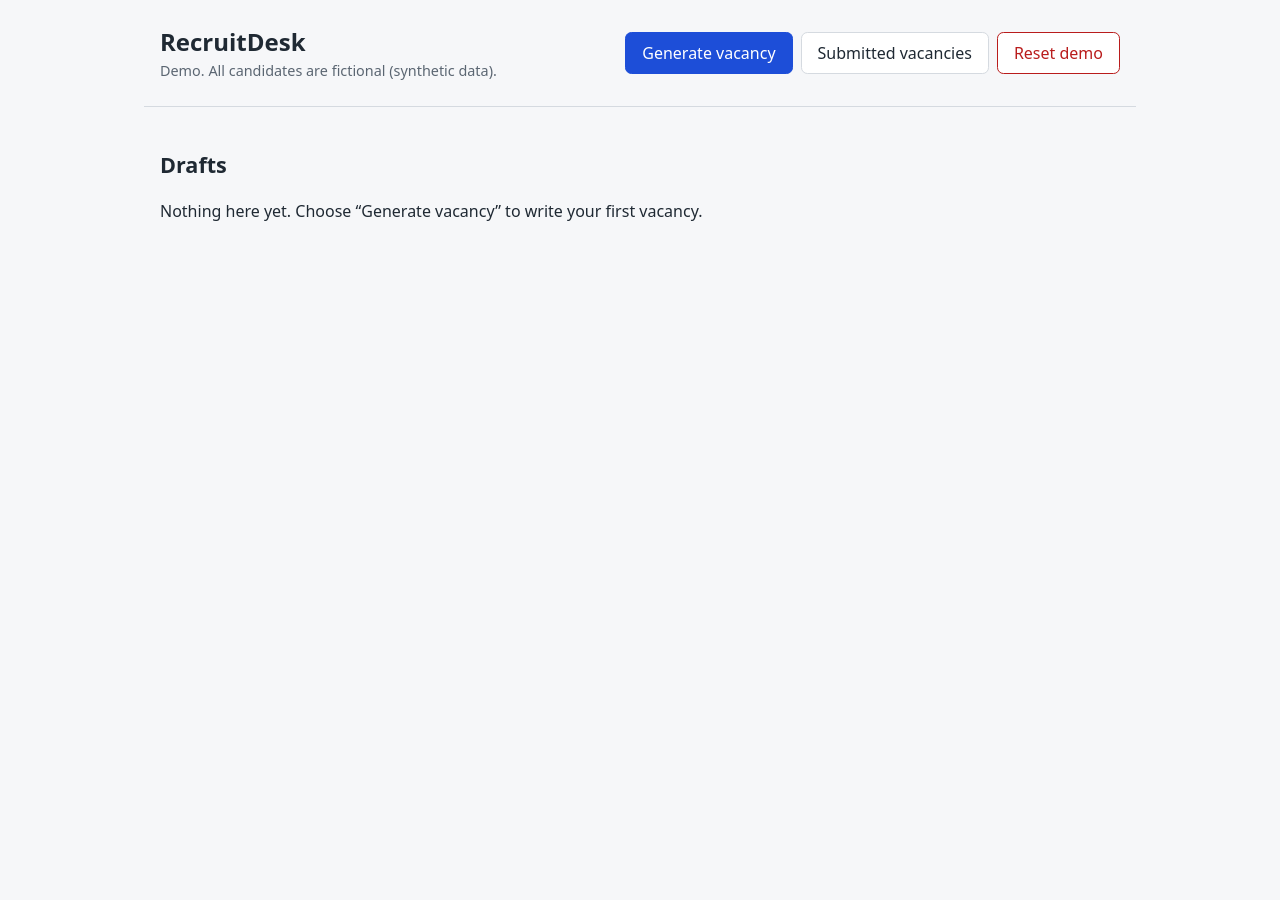
it: the dialog offers the choices from the server
Click the button "Generate vacancy". click: (709, 53)
box: [625, 32, 793, 74]
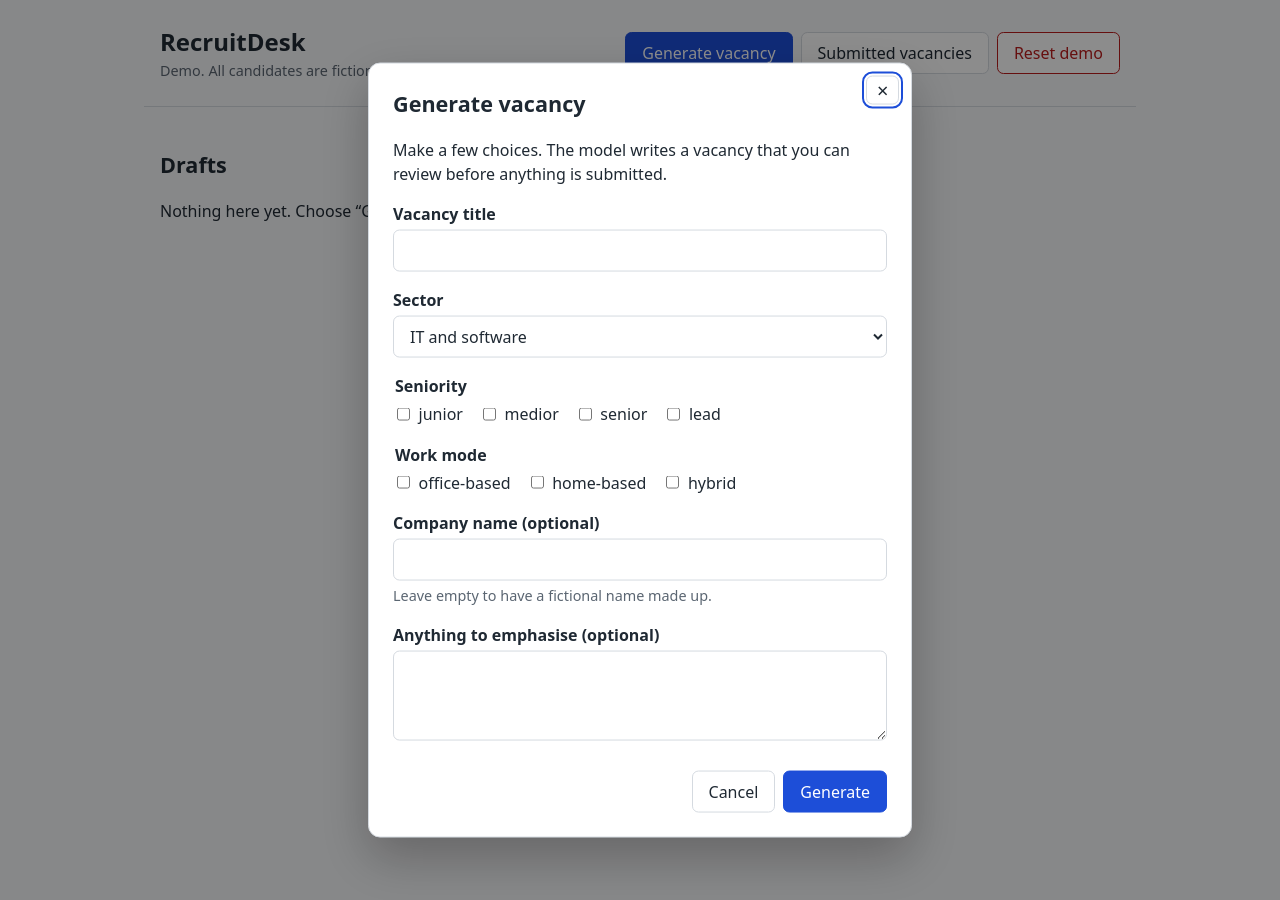
Result: the field labelled "Vacancy title" is shown at [393, 230, 887, 272]
Result: the checkbox labelled "junior" is not checked at [397, 407, 410, 420]
Result: the checkbox labelled "medior" is not checked at [483, 407, 496, 420]
